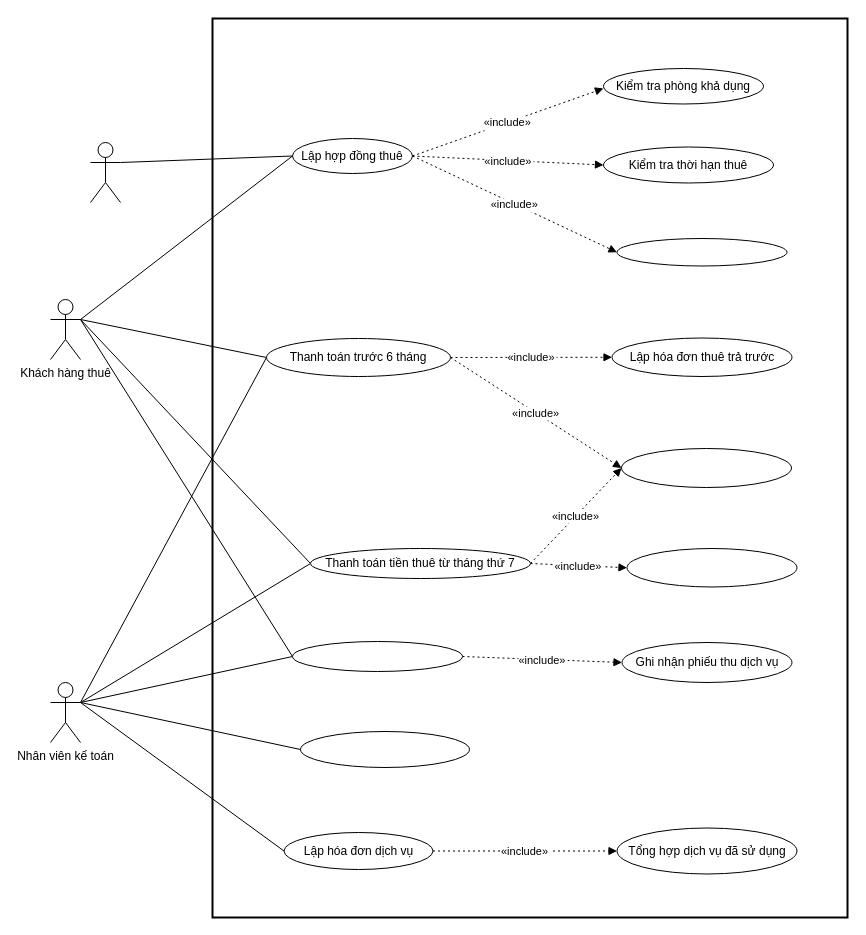
This 866x935 diagram has some shape labels left out. Here are the shapes that lost their labels. From the top down, the centre of each, then its label:
point 105,172: Nhân viên quản lý cao ốc
point 701,252: Ghi nhận các phòng thuê
point 706,468: Ghi nhận phiếu thu tiền thuê
point 711,567: Lập hóa đơn thuê từ tháng 7
point 377,656: Thanh toán hóa đơn dịch vụ
point 385,749: Ghi nhận sử dụng dịch vụ
